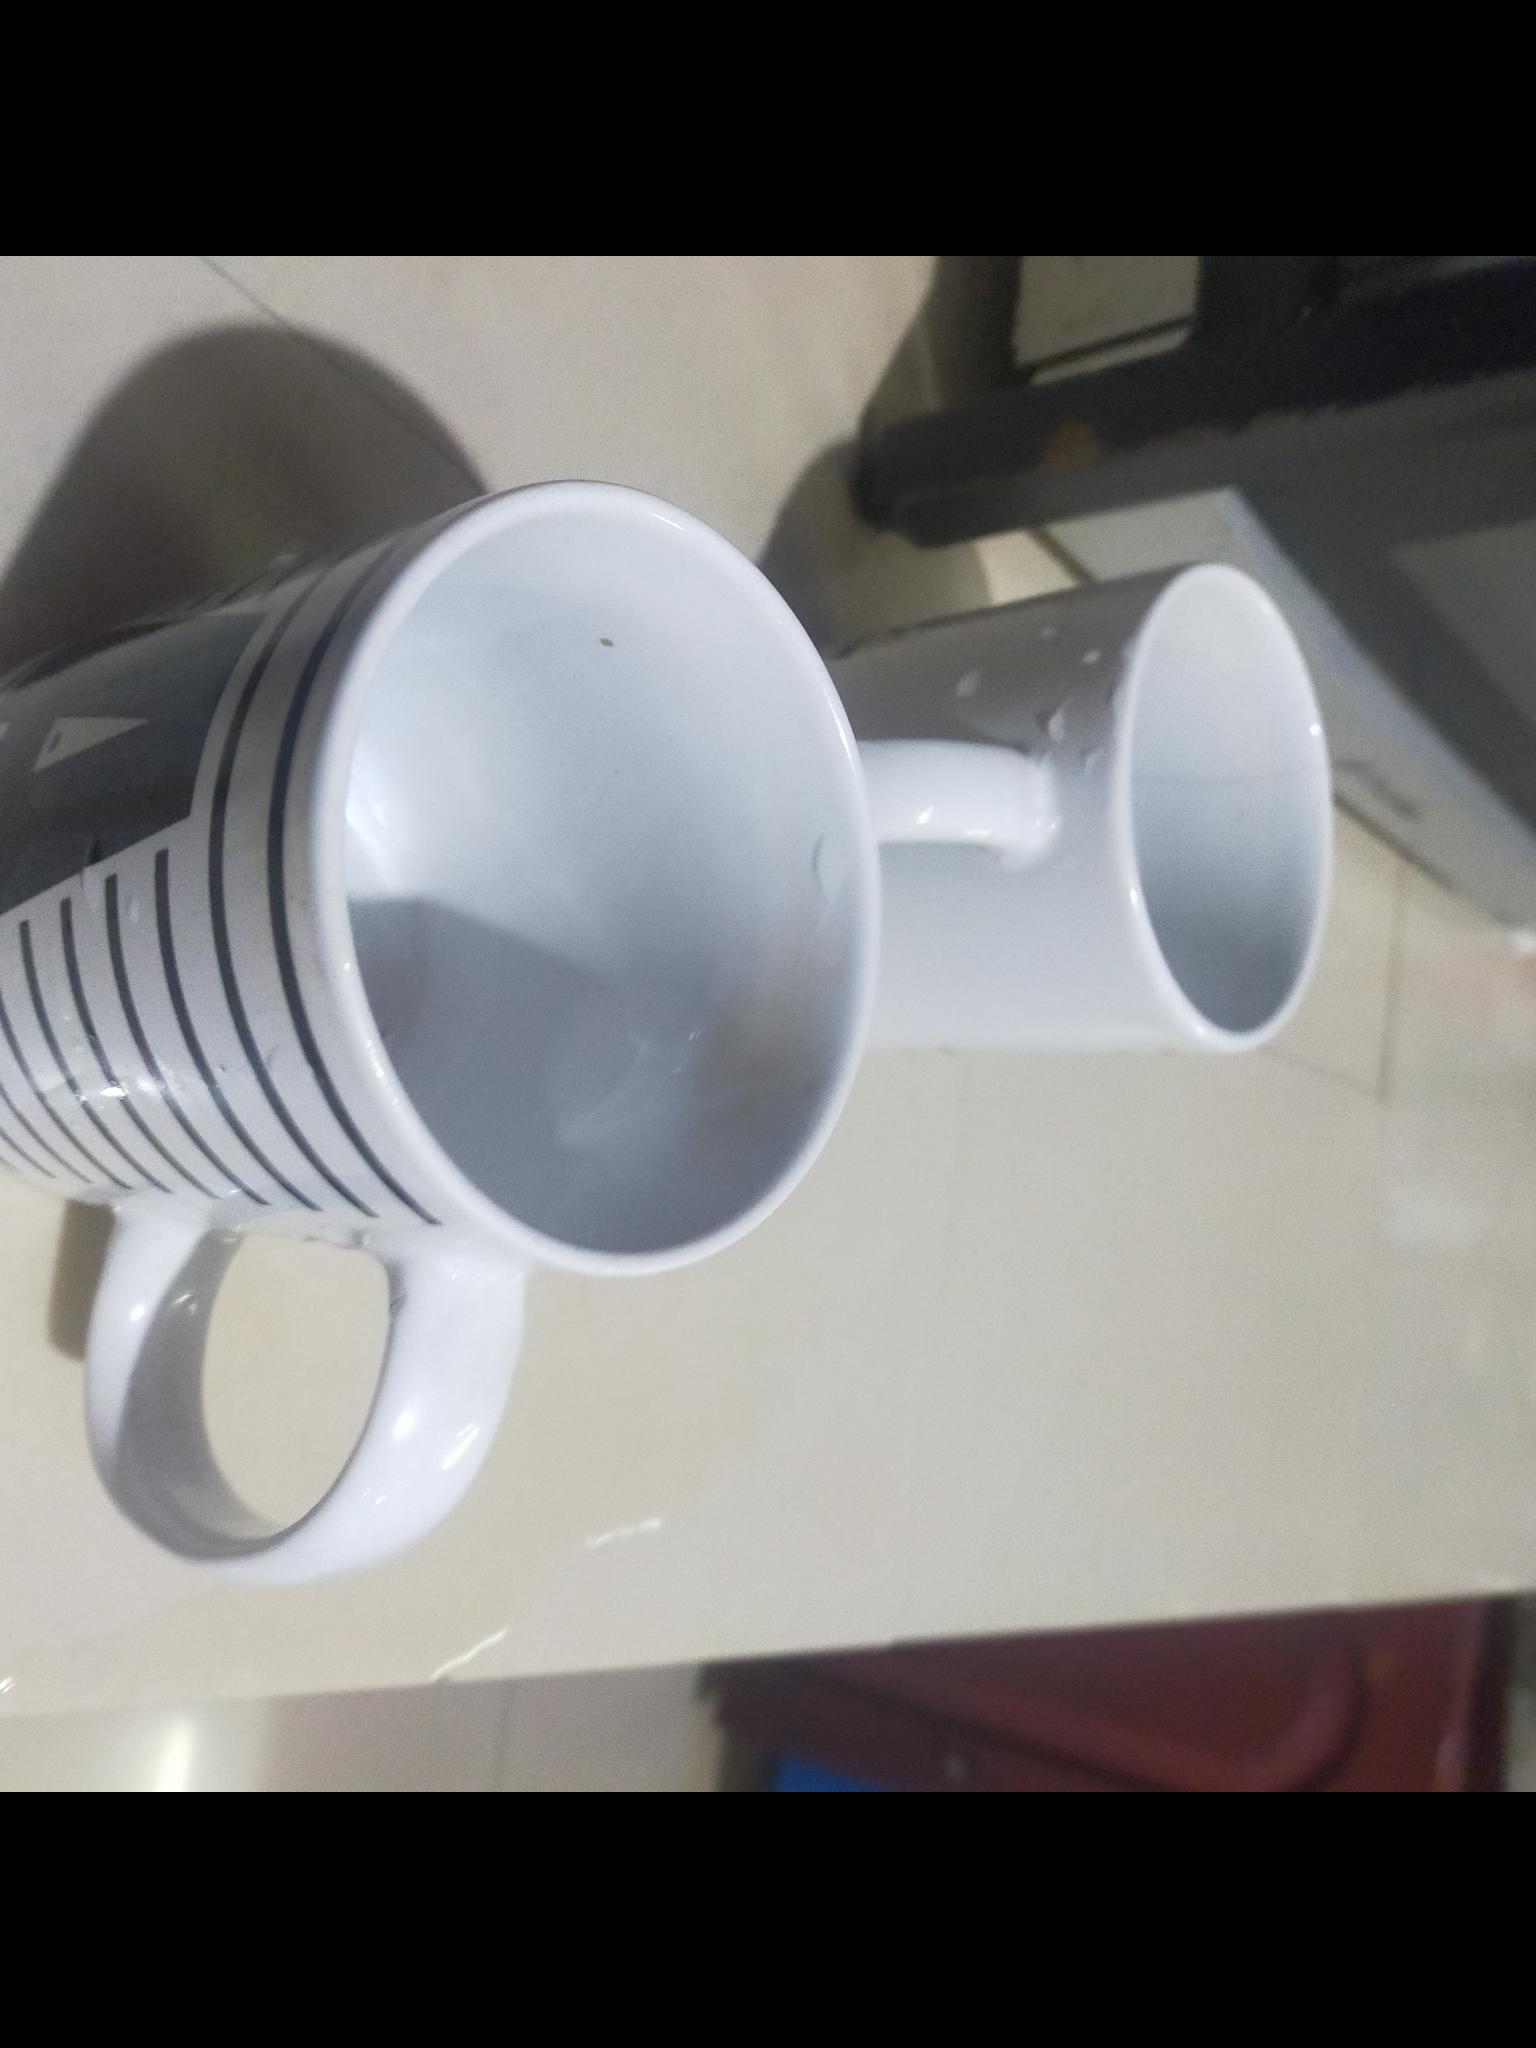Coffee Mug: (0, 489, 871, 1582), (828, 566, 1336, 1047)
